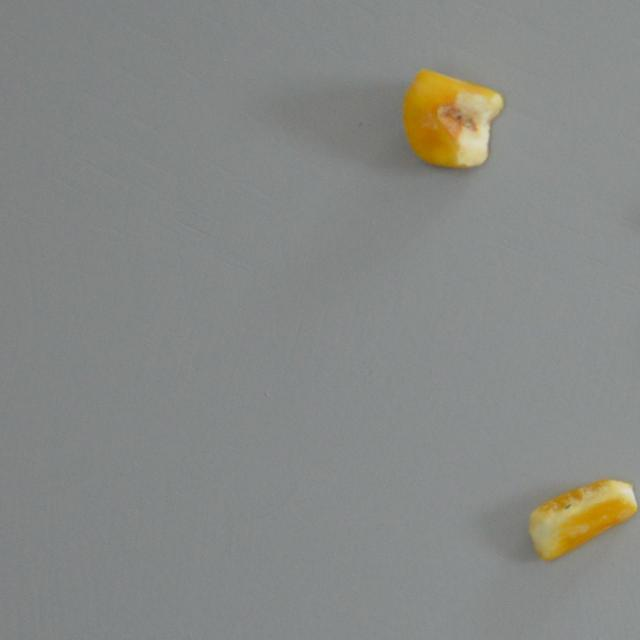dañado: (400, 66, 504, 170)
punto_negro: (526, 477, 639, 562)
